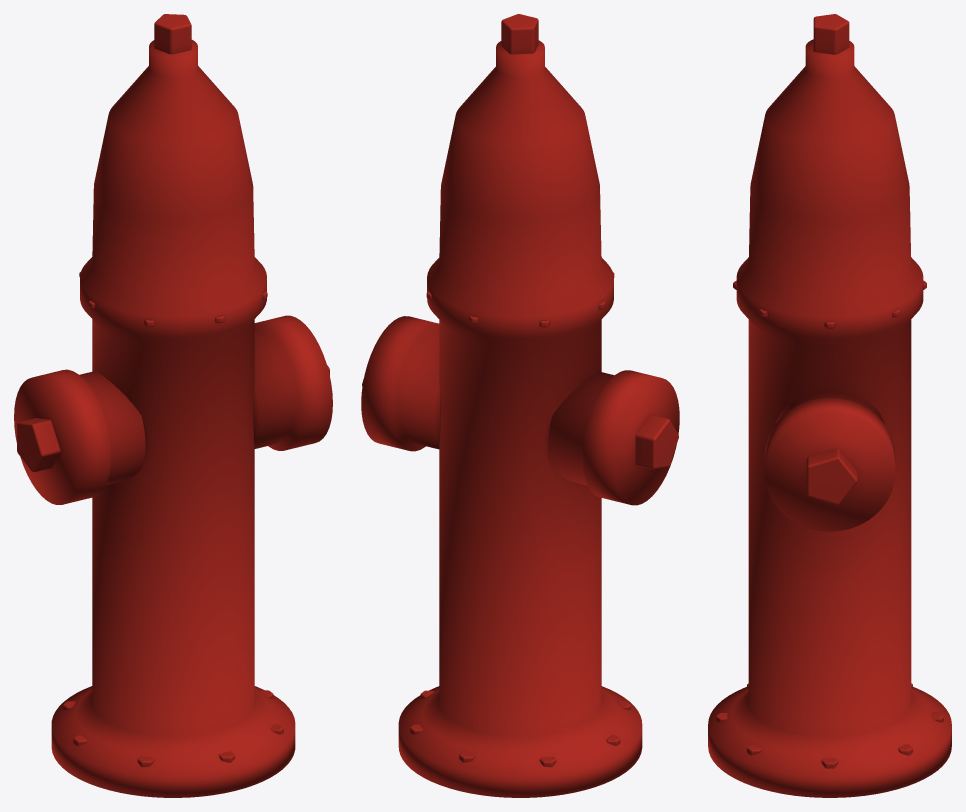
Rendered from tall-red-white.glb.
3 renders of one model, left to right at view 1: azimuth 30°, elevation 25°; view 2: azimuth 150°, elevation 25°; view 3: azimuth 270°, elevation 25°, orthographic.
Parts seen in each view (by area): view 1: paint_primary, paint_secondary_caps; view 2: paint_primary, paint_secondary_caps; view 3: paint_primary, paint_secondary_caps.
Boxes of the visible parts, x1=… form: paint_primary: x1=14, y1=40, x2=332, y2=797; paint_secondary_caps: x1=17, y1=14, x2=329, y2=472; paint_primary: x1=361, y1=40, x2=679, y2=797; paint_secondary_caps: x1=362, y1=14, x2=678, y2=469; paint_primary: x1=708, y1=39, x2=951, y2=797; paint_secondary_caps: x1=807, y1=14, x2=857, y2=504.
Size of the model in its own units: 0.414 by 0.985 by 0.3.
2 materials, 2 textured.
